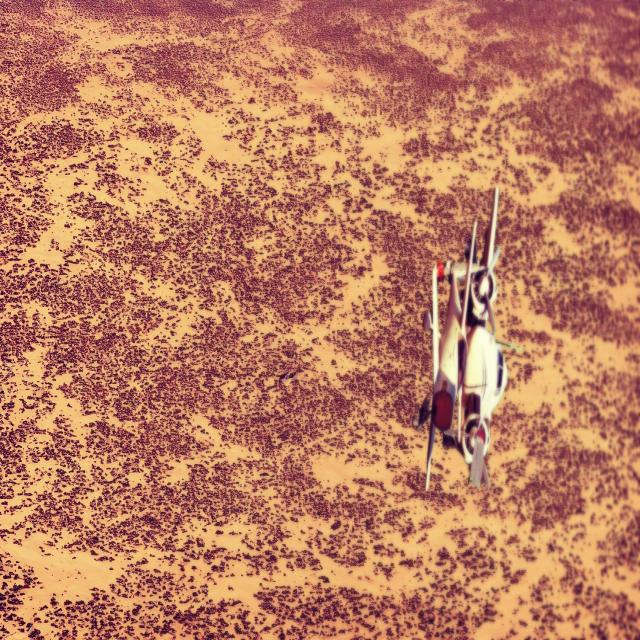airplane: (413, 185, 519, 492)
